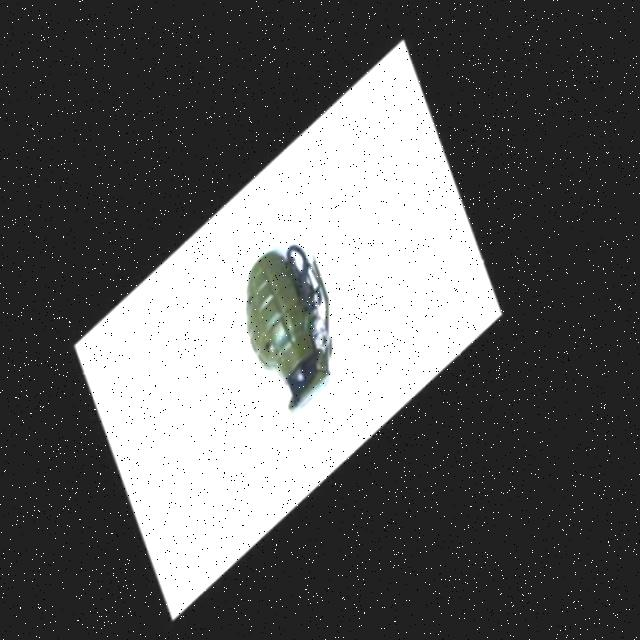grenade: (188, 212, 382, 436)
